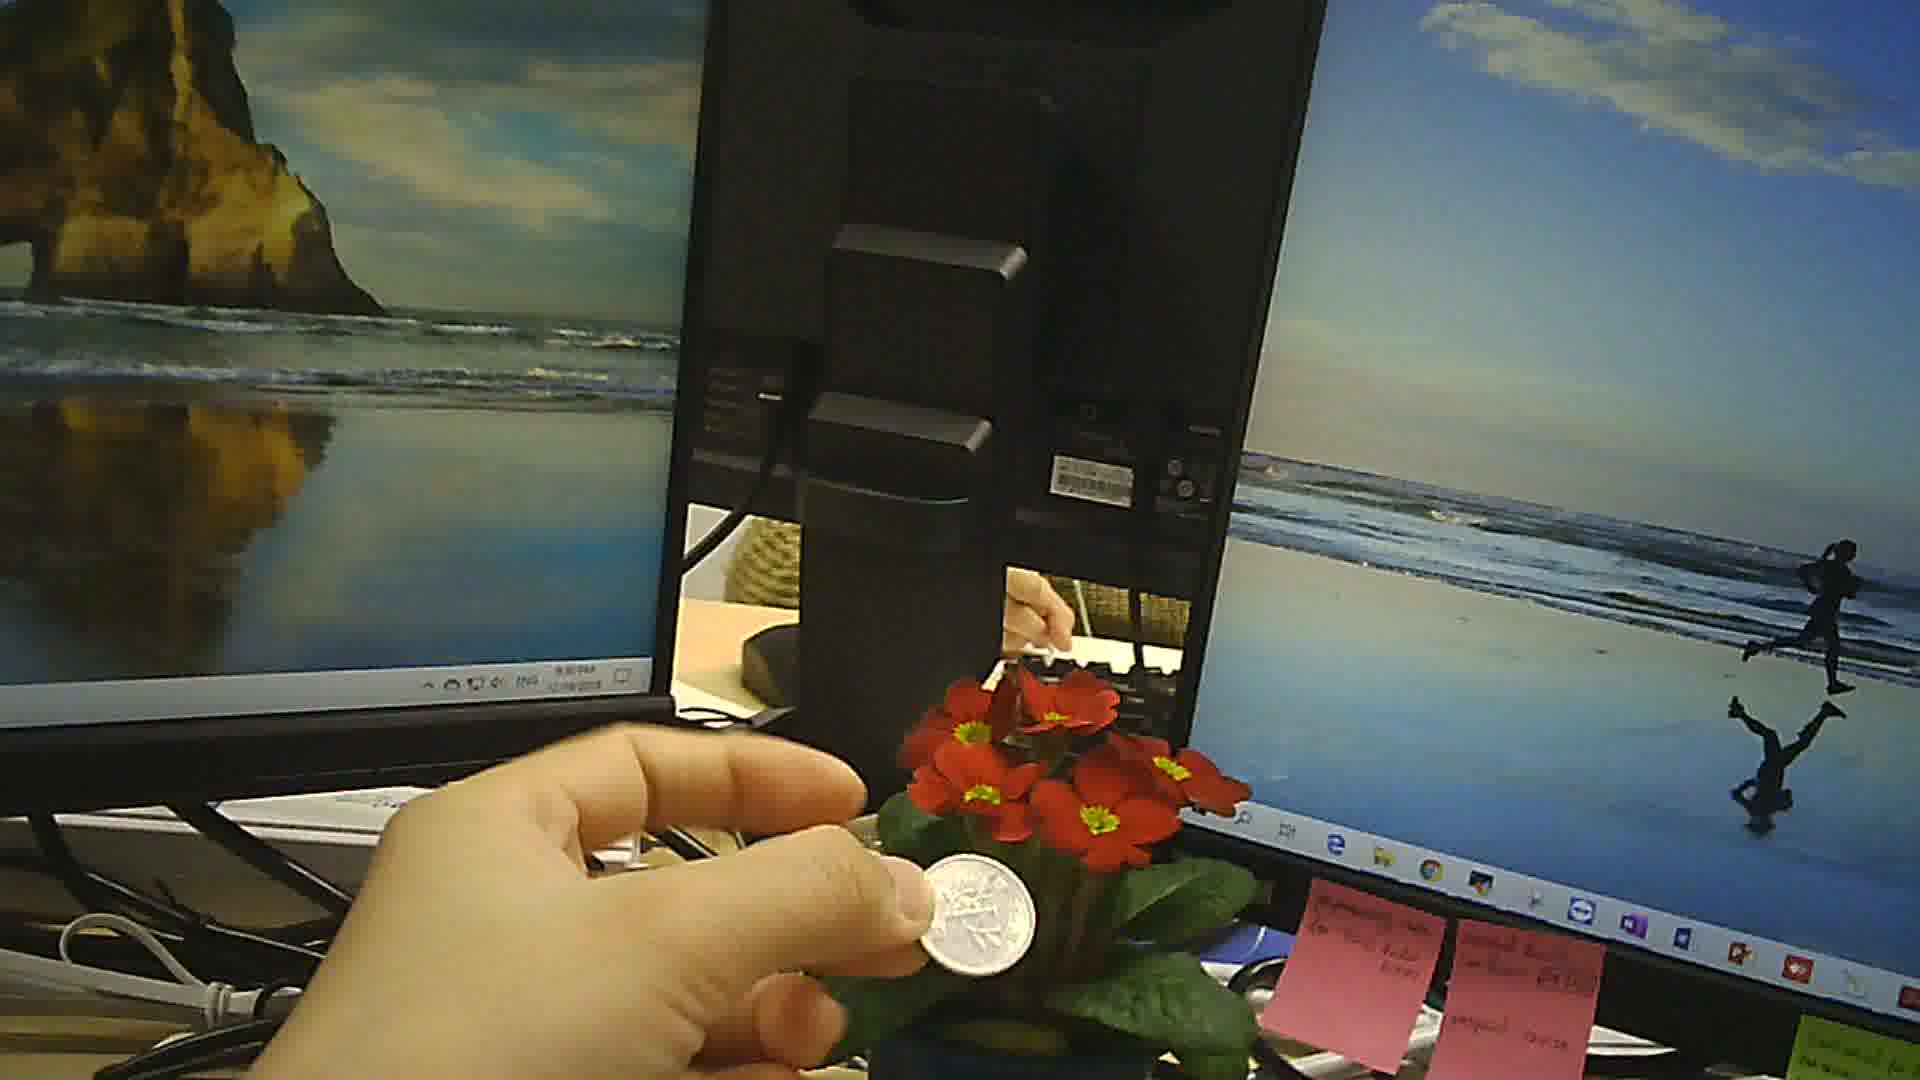1 Yen: (916, 843, 1043, 978)
